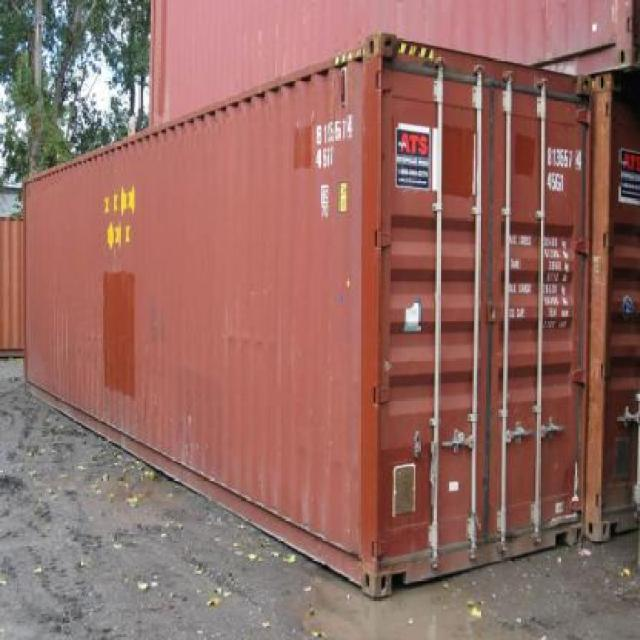ISO: (542, 170, 574, 193)
container_number: (547, 140, 594, 166)
